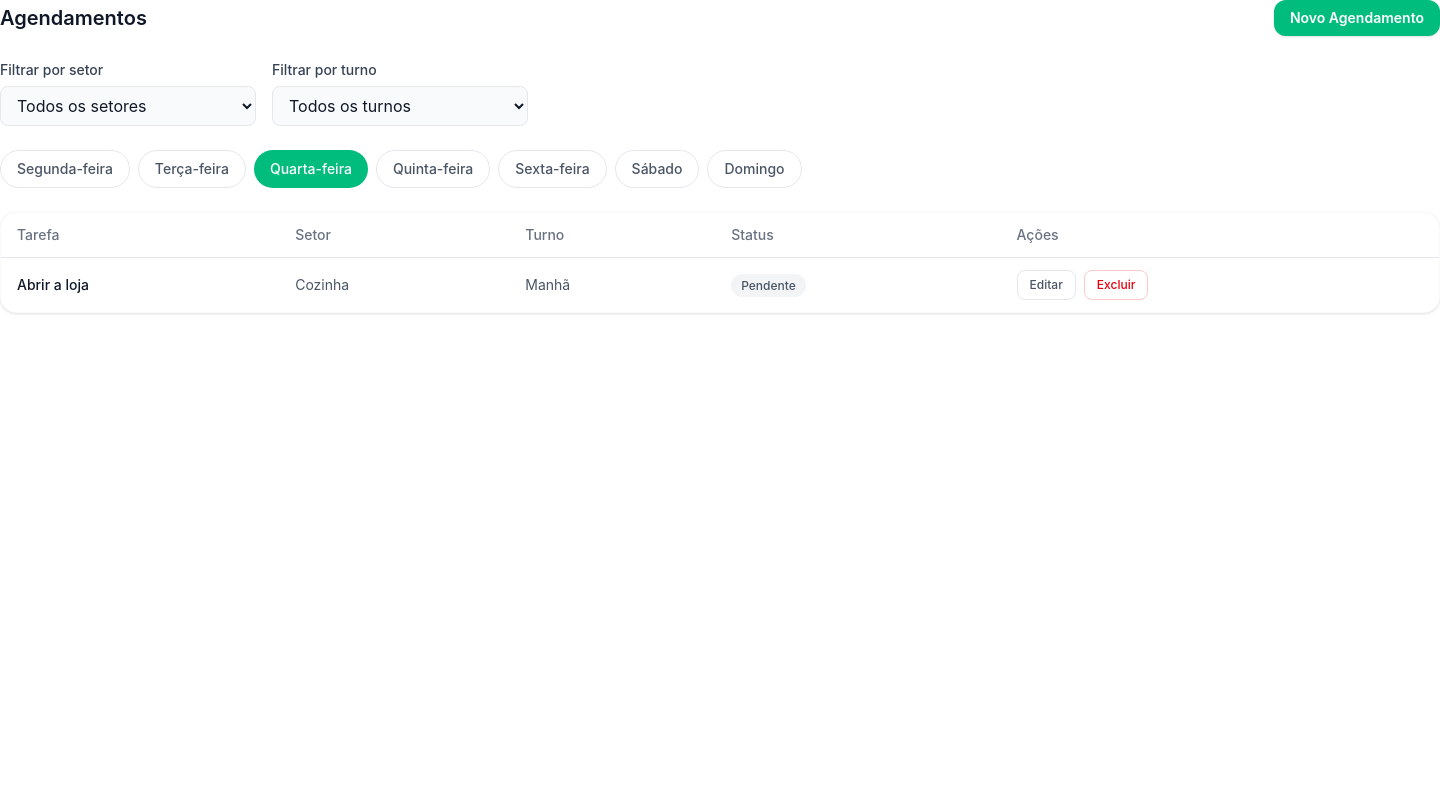
Test case: TaskAssignmentsPage › editar um agendamento mostra o turno atual, editável
Click the button "Editar" at (1046, 285), box [1016, 270, 1076, 300]
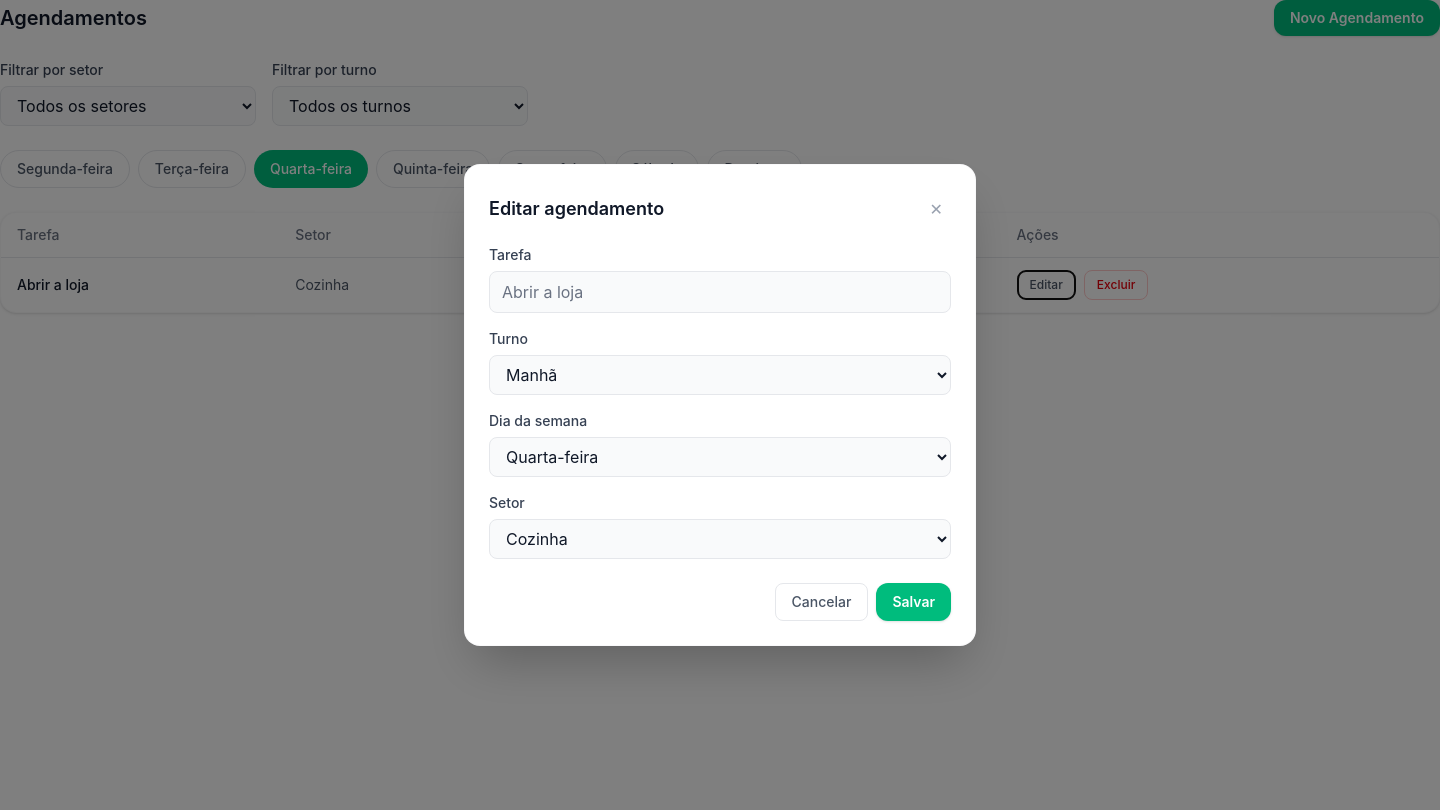
Now the text "Turno" is shown, box [489, 330, 528, 347]
Now the dropdown labelled "Turno" shows "Manhã", box [489, 355, 951, 395]
